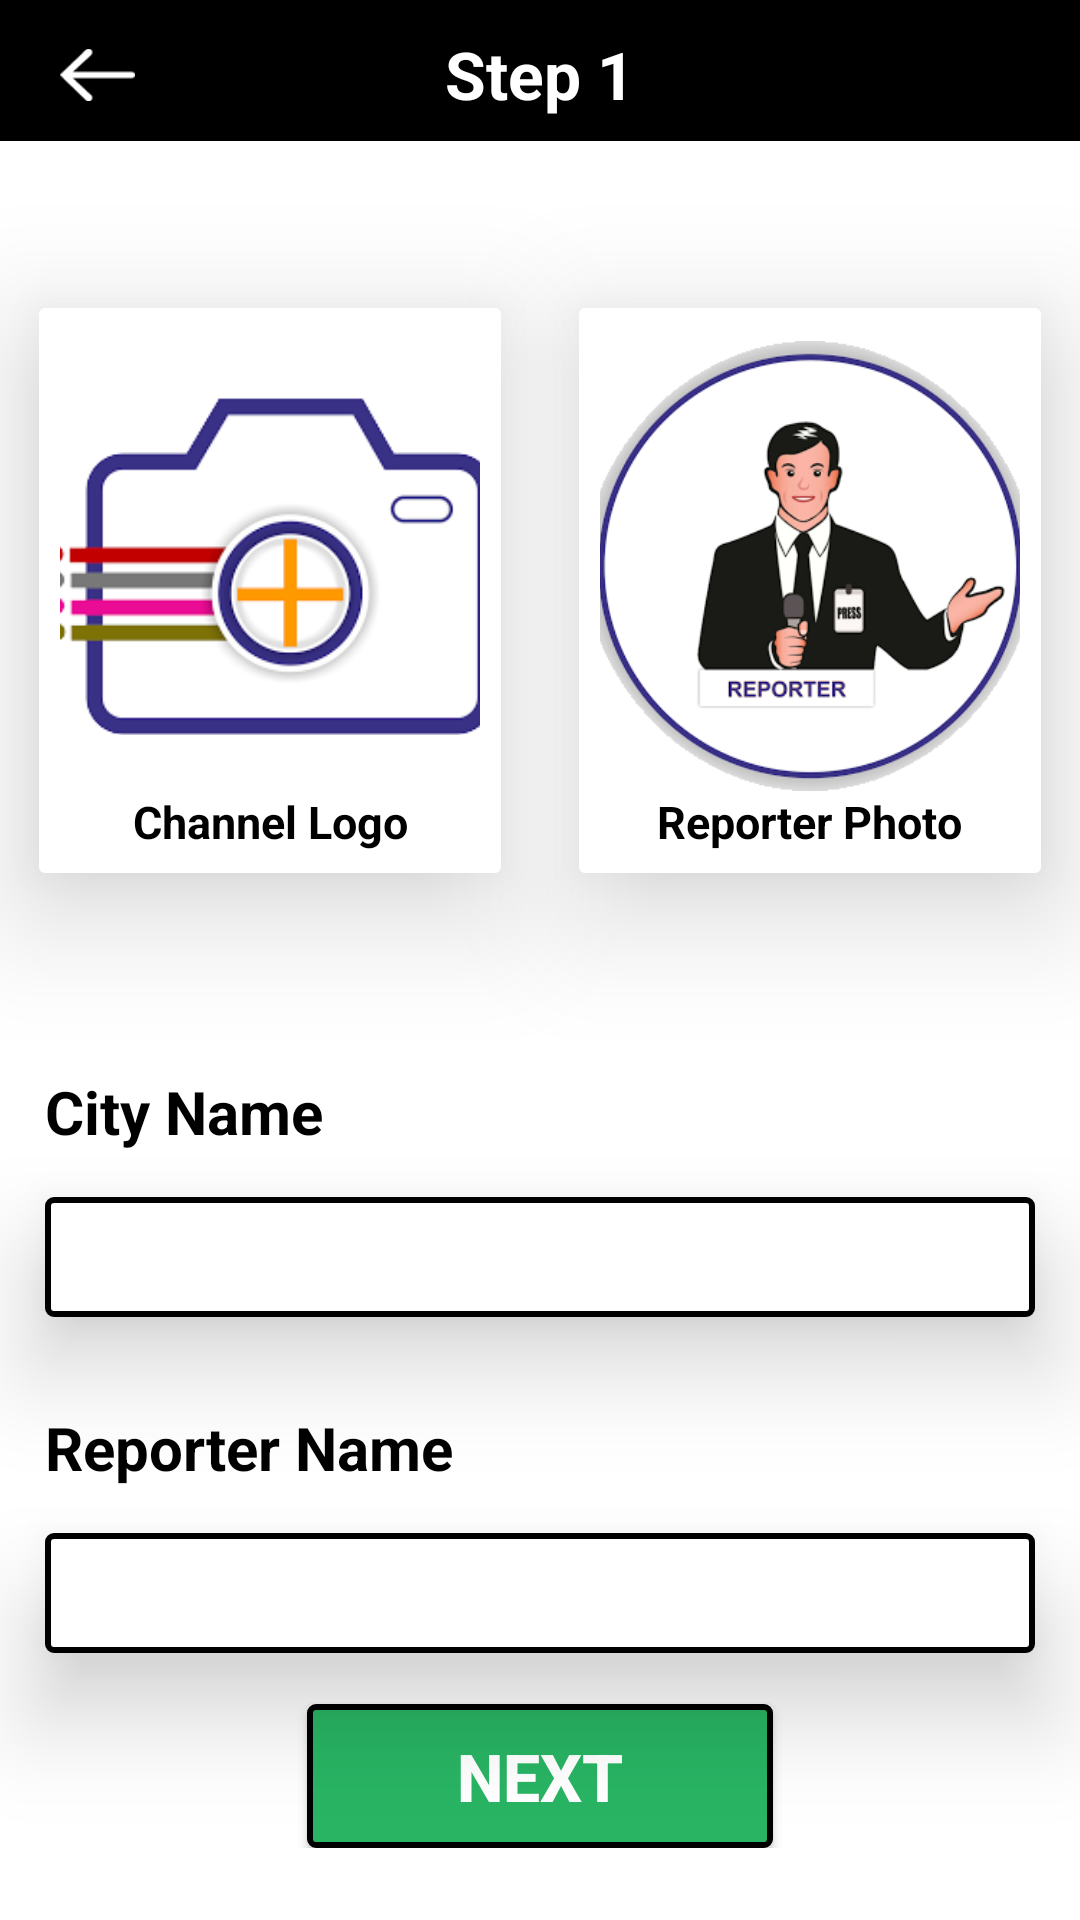

Icons on this 1080 x 1920 Android screen, each with the point to tap as (x,y):
back arrow: (97,75)
